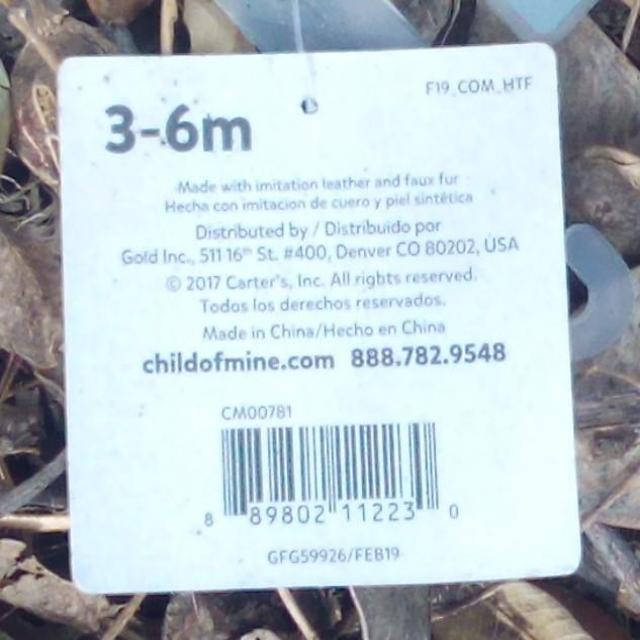litter: (61, 42, 579, 595)
